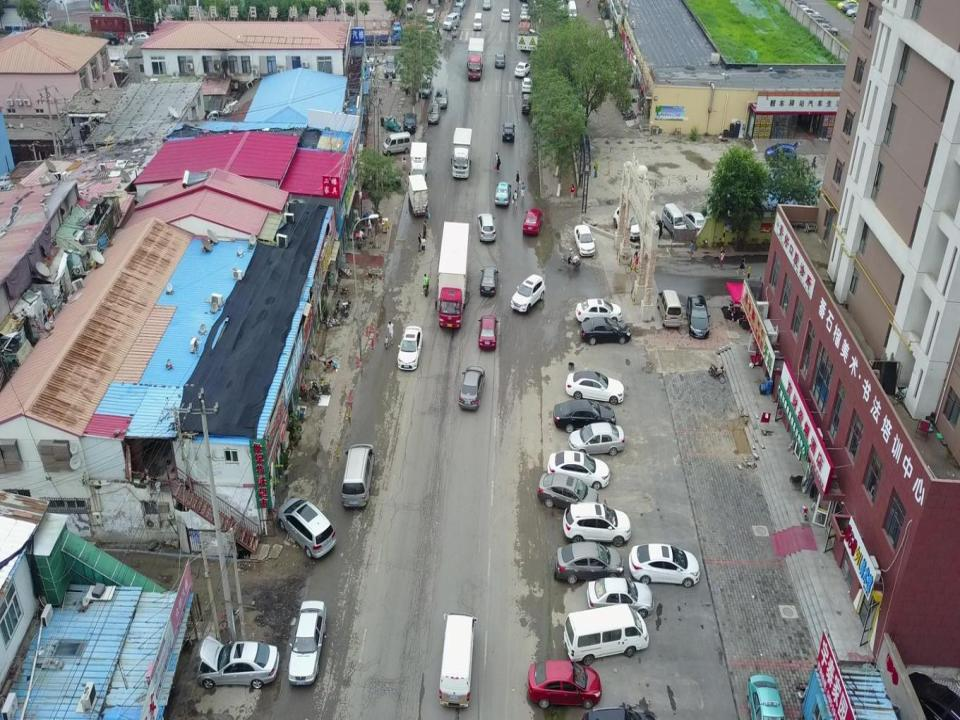car: (197, 636, 278, 688), (526, 659, 602, 707), (277, 500, 336, 558), (288, 599, 327, 685), (563, 499, 632, 546), (628, 543, 699, 587), (553, 543, 624, 584), (585, 579, 654, 620), (537, 472, 599, 511), (548, 451, 610, 490), (552, 397, 616, 433), (569, 422, 624, 458), (565, 371, 625, 403), (745, 674, 786, 720), (509, 274, 546, 313), (580, 316, 631, 344), (458, 366, 486, 410), (575, 298, 622, 323), (612, 206, 644, 241), (397, 326, 423, 369), (686, 294, 710, 338), (582, 708, 658, 720), (763, 141, 801, 162), (478, 314, 498, 351), (573, 225, 596, 256), (522, 207, 544, 237), (476, 213, 496, 242), (480, 266, 499, 296), (683, 212, 705, 234), (495, 180, 512, 207), (402, 112, 418, 133), (514, 60, 532, 78), (426, 104, 442, 124), (521, 93, 535, 114), (501, 122, 515, 142), (434, 88, 448, 108), (494, 52, 506, 68), (522, 77, 533, 93), (424, 8, 436, 22), (501, 9, 511, 21), (482, 0, 492, 10), (454, 0, 466, 8)
truck: (436, 221, 470, 330), (451, 126, 473, 180), (358, 22, 404, 46), (405, 174, 429, 217), (466, 36, 484, 81), (410, 142, 428, 181), (519, 3, 530, 21)
van: (564, 604, 650, 666), (439, 612, 476, 708), (342, 442, 376, 507), (656, 289, 682, 328), (661, 204, 687, 236), (382, 133, 410, 154), (644, 209, 662, 238), (442, 11, 460, 30), (418, 76, 432, 99), (384, 56, 398, 78), (566, 0, 578, 19), (473, 12, 483, 30), (404, 2, 414, 18)
